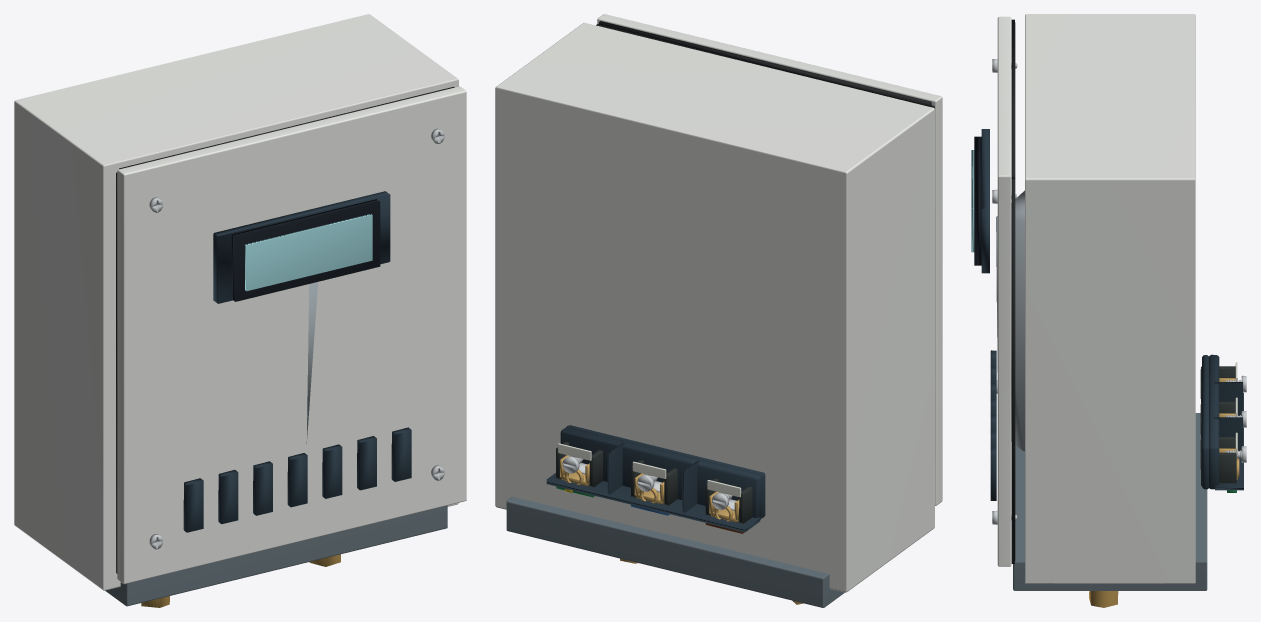
The model's file is boiler_default.low.glb.
3 views of the same model, side by side, from view 1: azimuth 30°, elevation 25°; view 2: azimuth 150°, elevation 25°; view 3: azimuth 270°, elevation 25° (orthographic). The views are drawn at different scales.
Visible parts, largest first — view 1: part:cover, part:body, part:cover · Original a463fd81, part:display, detail:enclosure-gasket-and-fixings · Detail rubber gasket, part:body.002, detail:enclosure-gasket-and-fixings · Detail zinc plated fix; view 2: part:body, part:terminals · Original a463fd81, part:cover, detail:enclosure-gasket-and-fixings · Detail rubber gasket, detail:terminal-clamp:L · Detail moulded engineering polymer, detail:terminal-clamp:PE · Detail moulded engineering polyme, detail:terminal-clamp:N · Detail moulded engineering polymer; view 3: part:body, part:cover, part:terminals · Original a463fd81, part:body.002, detail:enclosure-gasket-and-fixings · Detail rubber gasket, part:cover · Original a463fd81, part:display, detail:terminal-clamp:PE · Detail moulded engineering polyme, part:body.003 · Original df732090.
Boxes of the visible parts, bbox=[...] form: part:cover: bbox=[117, 86, 466, 584]; part:body: bbox=[14, 14, 458, 606]; part:cover · Original a463fd81: bbox=[183, 191, 411, 532]; part:display: bbox=[231, 199, 380, 301]; detail:enclosure-gasket-and-fixings · Detail rubber gasket: bbox=[116, 86, 454, 573]; part:body.002: bbox=[306, 282, 318, 443]; detail:enclosure-gasket-and-fixings · Detail zinc plated fix: bbox=[149, 128, 444, 549]; part:body: bbox=[495, 22, 934, 607]; part:terminals · Original a463fd81: bbox=[546, 425, 765, 532]; part:cover: bbox=[597, 14, 942, 505]; detail:enclosure-gasket-and-fixings · Detail rubber gasket: bbox=[596, 21, 934, 108]; detail:terminal-clamp:L · Detail moulded engineering polymer: bbox=[705, 478, 752, 523]; detail:terminal-clamp:PE · Detail moulded engineering polyme: bbox=[556, 442, 602, 487]; detail:terminal-clamp:N · Detail moulded engineering polymer: bbox=[631, 460, 677, 505]; part:body: bbox=[1013, 14, 1207, 590]; part:cover: bbox=[997, 16, 1011, 566]; part:terminals · Original a463fd81: bbox=[1202, 354, 1243, 490]; part:body.002: bbox=[996, 190, 1024, 451]; detail:enclosure-gasket-and-fixings · Detail rubber gasket: bbox=[1011, 19, 1015, 563]; part:cover · Original a463fd81: bbox=[981, 129, 996, 500]; part:display: bbox=[971, 136, 981, 265]; detail:terminal-clamp:PE · Detail moulded engineering polyme: bbox=[1200, 436, 1237, 485]; part:body.003 · Original df732090: bbox=[1089, 591, 1118, 607].
Size of the model in its own units: 1.22 by 1.6 by 0.8559.
